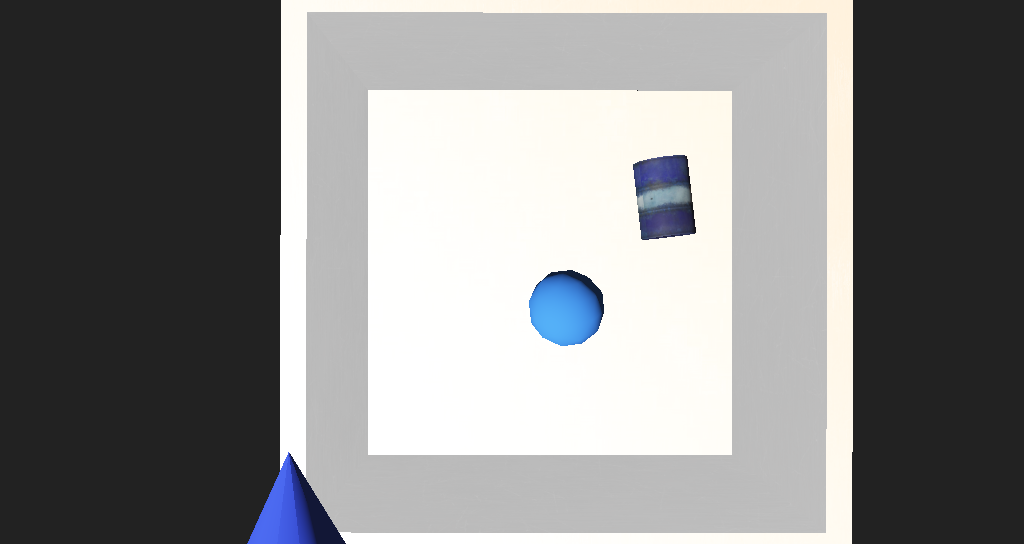cone: (573, 200, 627, 248)
cylinder: (236, 358, 344, 434)
sphere: (488, 270, 549, 313)
